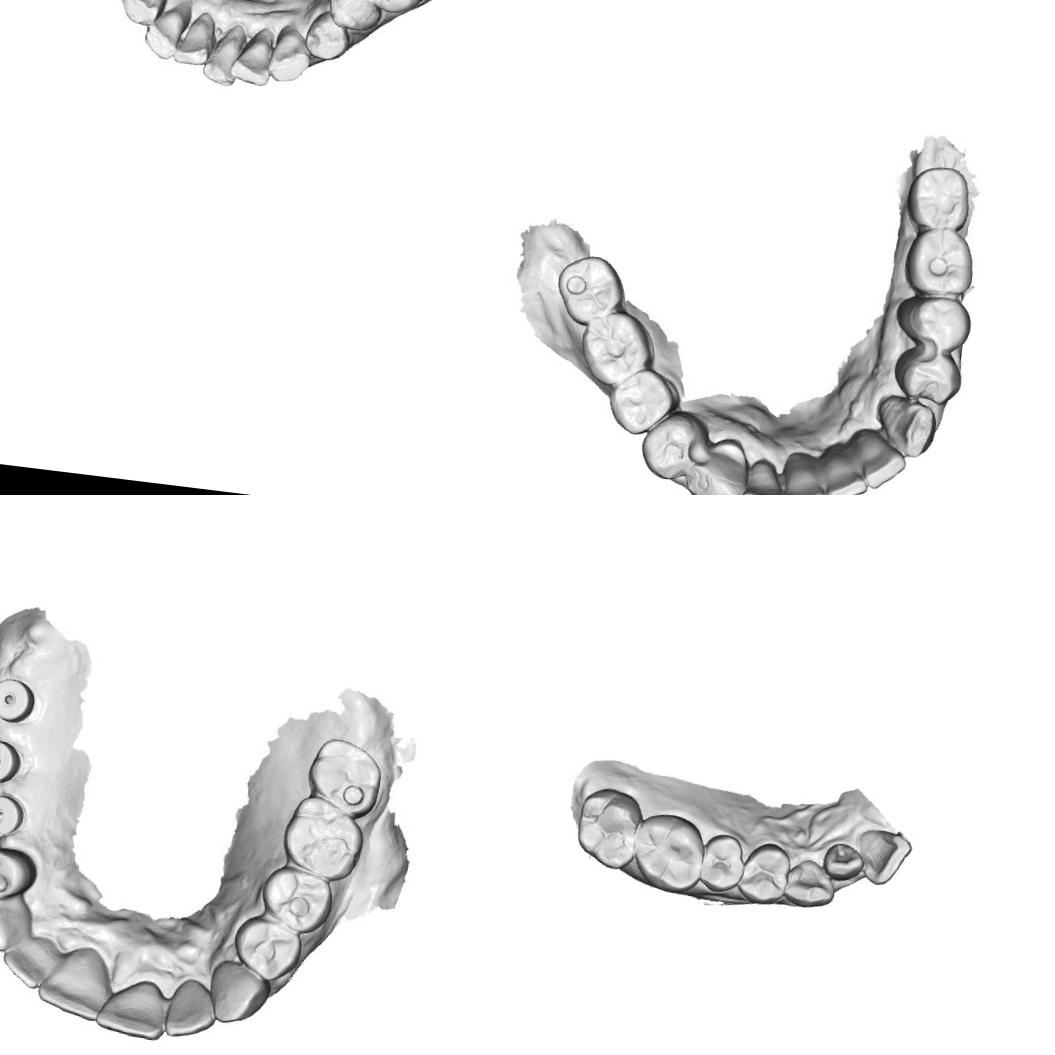canine: (206, 959, 268, 1027), (686, 435, 751, 495), (878, 396, 939, 455), (268, 21, 314, 91), (782, 856, 839, 912), (0, 893, 37, 951), (116, 0, 169, 30)
implant: (0, 670, 41, 731), (0, 789, 30, 846), (0, 736, 26, 790)
incisor: (40, 947, 109, 1016), (96, 978, 166, 1044), (852, 826, 914, 890), (164, 973, 219, 1038), (854, 432, 910, 490), (3, 934, 59, 988), (205, 26, 246, 84), (782, 451, 834, 495), (823, 447, 870, 495), (234, 28, 276, 81), (146, 5, 188, 56), (820, 841, 866, 884), (176, 10, 214, 62), (739, 455, 788, 495)
molar: (280, 788, 365, 880), (550, 250, 634, 335), (896, 224, 984, 300), (631, 810, 706, 897), (572, 784, 644, 872), (306, 735, 384, 814), (580, 309, 650, 386), (906, 162, 980, 234)
premolar: (892, 288, 974, 356), (892, 342, 964, 411), (232, 912, 302, 982), (263, 864, 332, 932), (736, 838, 792, 907), (614, 369, 672, 433), (696, 829, 750, 896), (640, 418, 698, 478), (300, 14, 350, 64), (0, 843, 32, 901), (326, 0, 380, 30)
